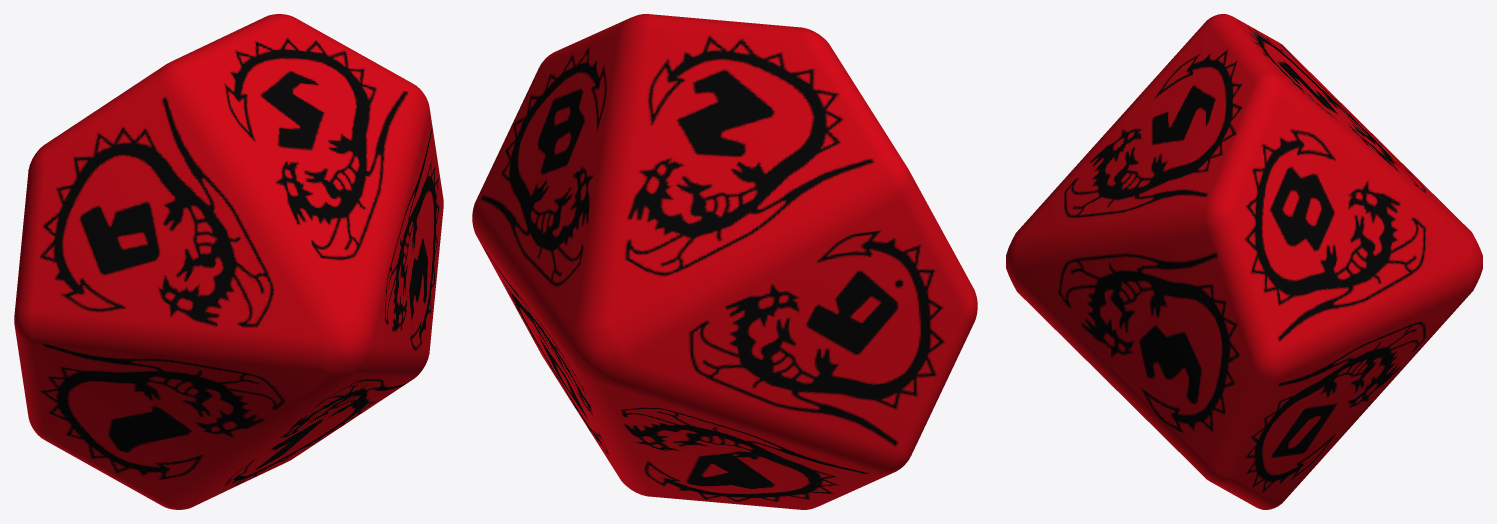
File: d10_dragons_SDRA04.glb
The picture shows the model from 3 angles, left to right: view 1: azimuth 30°, elevation 25°; view 2: azimuth 150°, elevation 25°; view 3: azimuth 270°, elevation 25°; orthographic projection. The views are drawn at different scales.
Visible parts, largest first — view 1: K10_obla_noweUV.001; view 2: K10_obla_noweUV.001; view 3: K10_obla_noweUV.001.
Boxes of the visible parts, left/top/right/bottom form: K10_obla_noweUV.001: left=14, top=14, right=443, bottom=509; K10_obla_noweUV.001: left=472, top=14, right=977, bottom=509; K10_obla_noweUV.001: left=1006, top=14, right=1482, bottom=509.
Bounding box in the file's own units: 169 × 161 × 161.
1 material, 1 textured.
